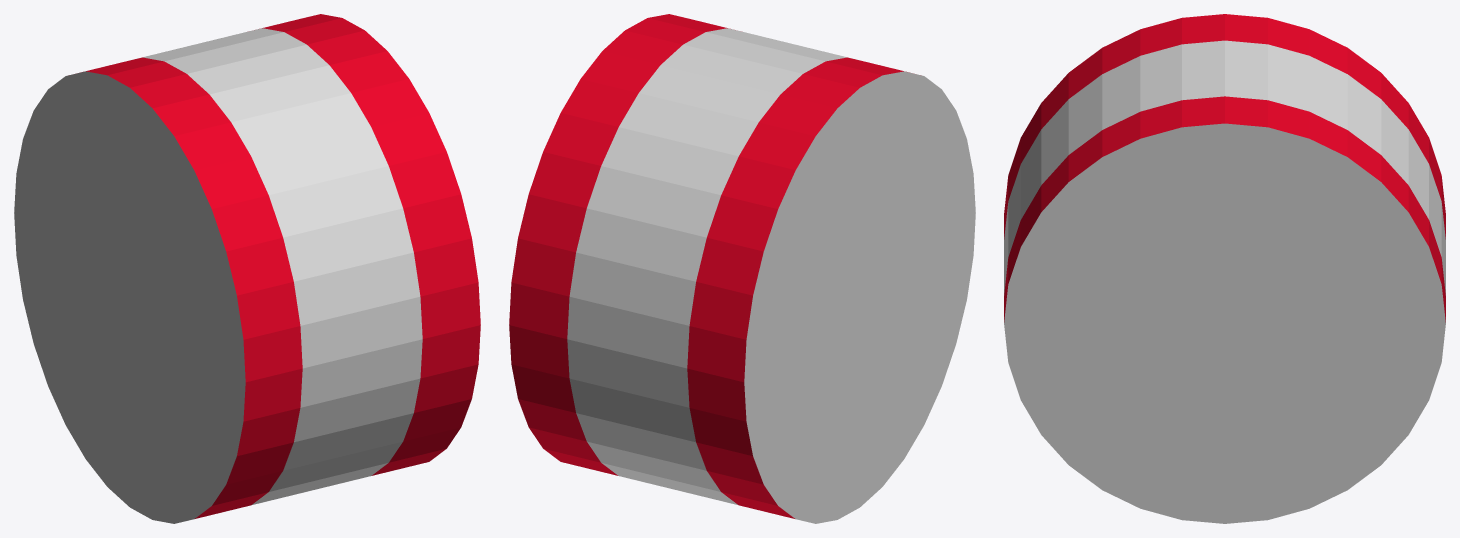
The model's file is Road.fbx.
3 views of the same model, side by side, from view 1: azimuth 30°, elevation 25°; view 2: azimuth 150°, elevation 25°; view 3: azimuth 270°, elevation 25° (orthographic). The views are drawn at different scales.
Parts seen in each view (by area): view 1: Road; view 2: Road; view 3: Road.
Boxes of the visible parts, <box> form: Road: <box>14,14,480,523</box>; Road: <box>509,14,975,523</box>; Road: <box>1004,14,1445,523</box>.
Bounding box in the file's own units: 1173 × 2000 × 2000.
